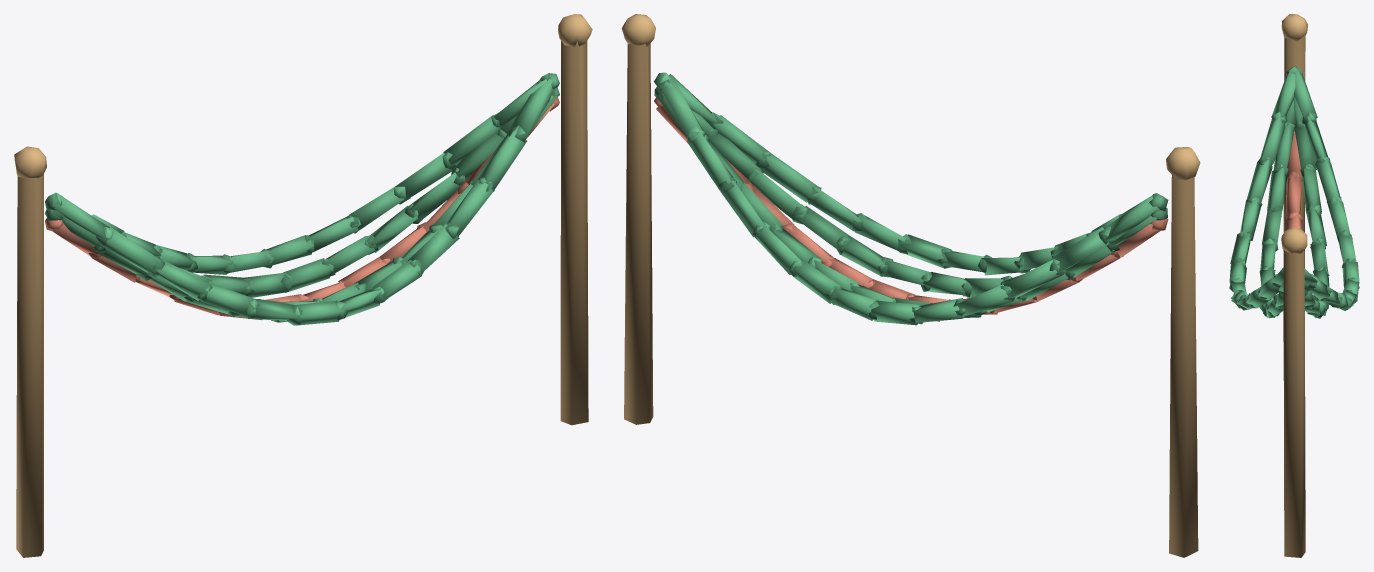
The model's file is gift-pip.glb.
The picture shows the model from 3 angles, left to right: view 1: azimuth 30°, elevation 25°; view 2: azimuth 150°, elevation 25°; view 3: azimuth 270°, elevation 25°; orthographic projection. The views are drawn at different scales.
Parts seen in each view (by area): view 1: gift-pip; view 2: gift-pip; view 3: gift-pip.
Boxes of the visible parts, box(x1,y1,x2,y2) form: gift-pip: box(14, 14, 592, 557); gift-pip: box(621, 14, 1200, 557); gift-pip: box(1229, 14, 1359, 557).
Bounding box in the file's own units: 2.32 × 1.56 × 0.568.
